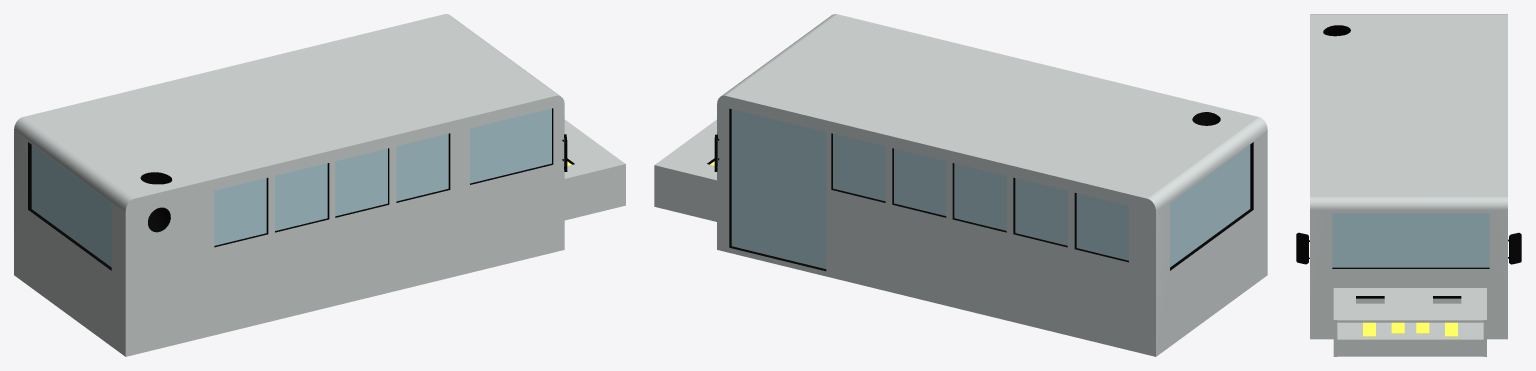
File: Bus_Coloured_Export.fbx
The picture shows the model from 3 angles, left to right: view 1: azimuth 30°, elevation 25°; view 2: azimuth 150°, elevation 25°; view 3: azimuth 270°, elevation 25°; orthographic projection. The views are drawn at different scales.
Parts seen in each view (by area): view 1: polySurface32; view 2: polySurface32; view 3: polySurface32.
Part boxes in pixels (x1,y1,x2,y2): polySurface32: (14,14,625,356); polySurface32: (654,14,1267,356); polySurface32: (1296,14,1521,356).
Size of the model in its own units: 1316 by 382 by 565.
